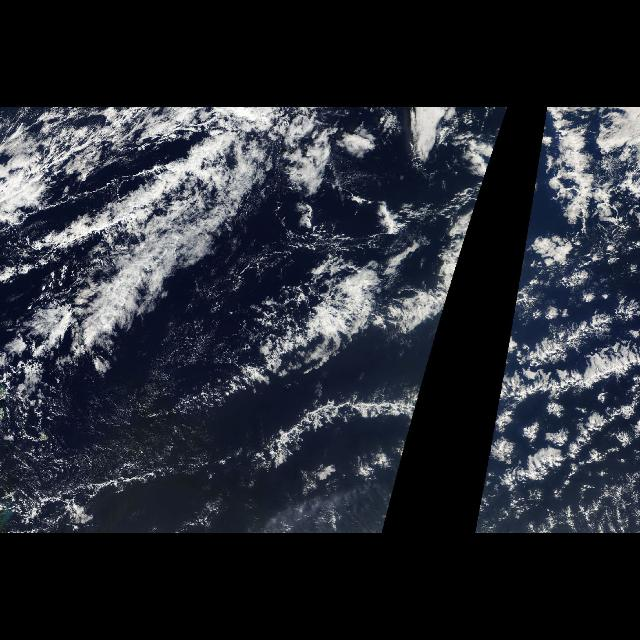Fish: (12, 132, 464, 470), (485, 312, 639, 468)
Flower: (494, 304, 640, 516)
Sugar: (3, 372, 266, 524)
